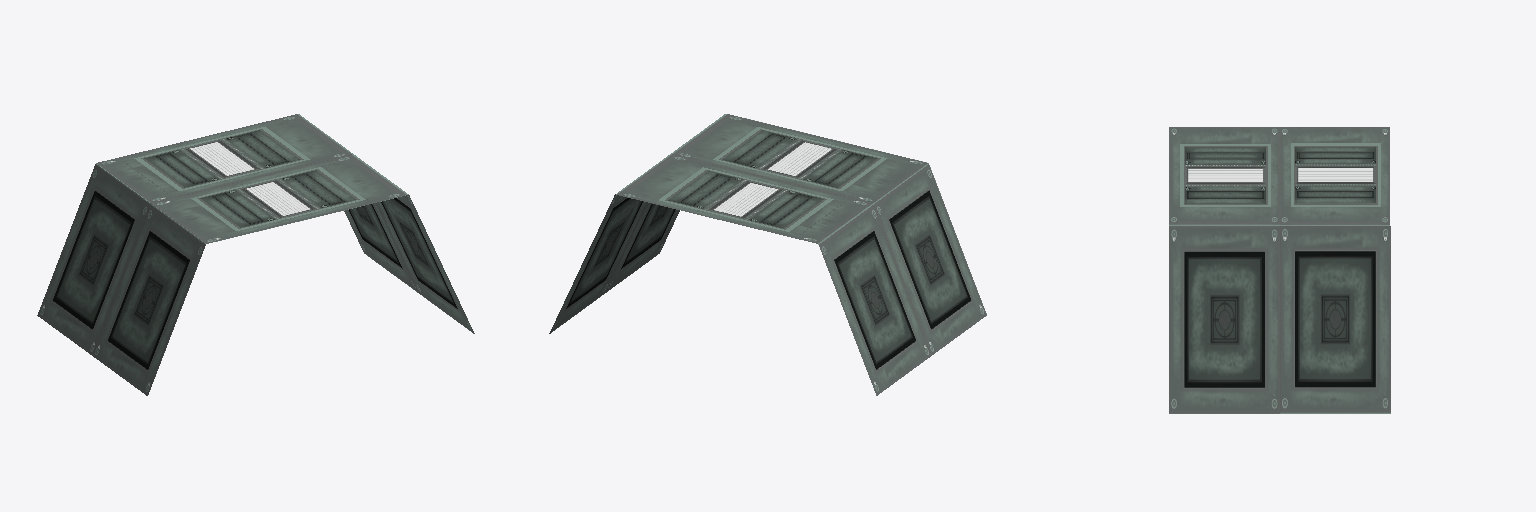
3 renders of one model, left to right at view 1: azimuth 30°, elevation 25°; view 2: azimuth 150°, elevation 25°; view 3: azimuth 270°, elevation 25°, orthographic.
Visible parts, largest first — view 1: topOfDoorHallway_Plane_043.001; view 2: topOfDoorHallway_Plane_043.001; view 3: topOfDoorHallway_Plane_043.001.
Boxes of the visible parts, x1=… form: topOfDoorHallway_Plane_043.001: x1=37, y1=114, x2=474, y2=395; topOfDoorHallway_Plane_043.001: x1=549, y1=114, x2=986, y2=395; topOfDoorHallway_Plane_043.001: x1=1169, y1=127, x2=1390, y2=413.
Size of the model in its own units: 7.45 by 3.4 by 4.38.
1 materials, 1 textured.